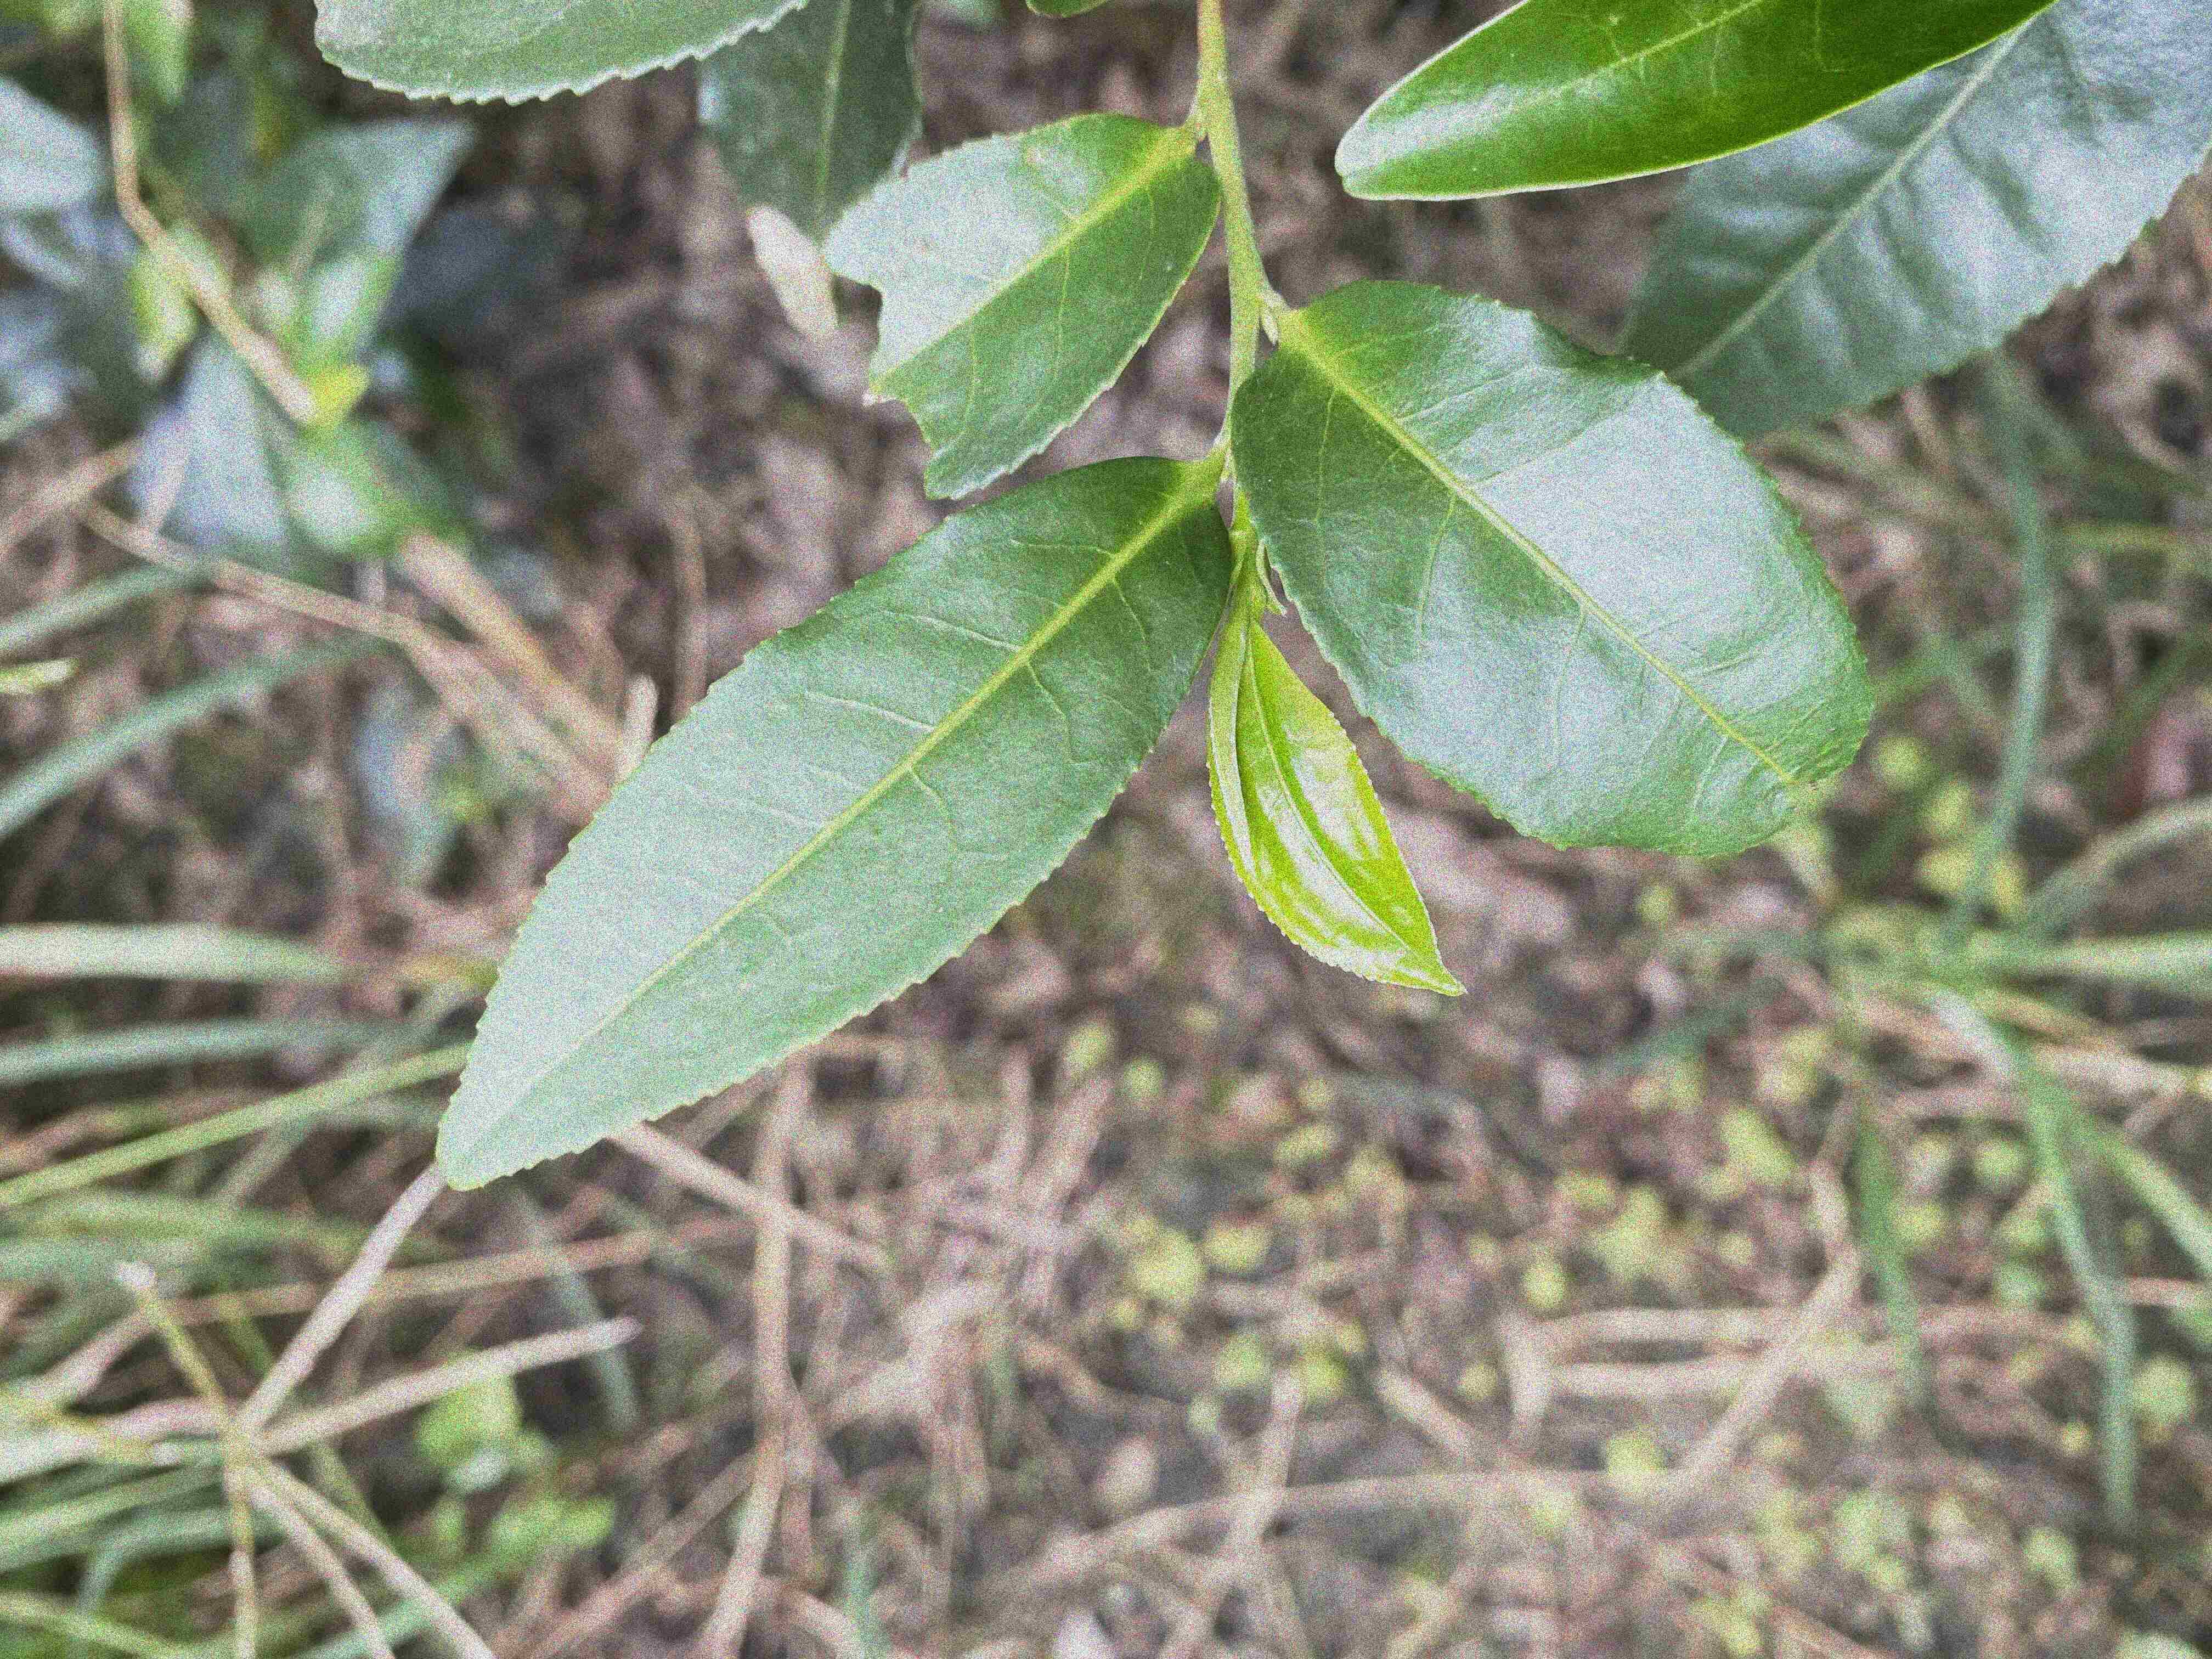chihuo_high: (819, 112, 1221, 500)
healthy: (434, 460, 1240, 1194), (1230, 275, 1874, 857), (1336, 3, 2054, 204), (1202, 610, 1467, 1002)
